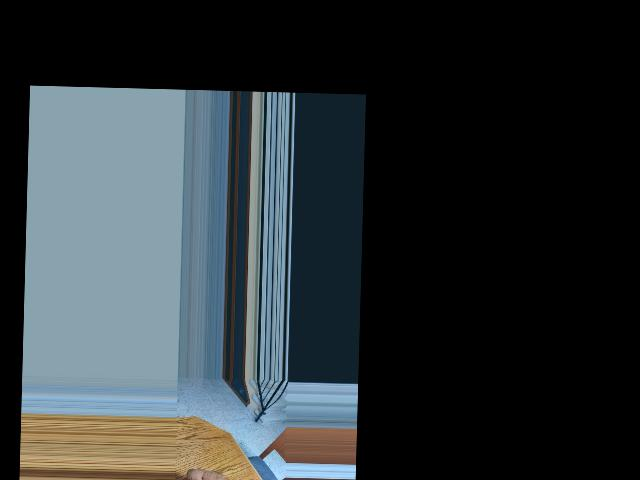sweet_potato: (187, 466, 255, 480)
